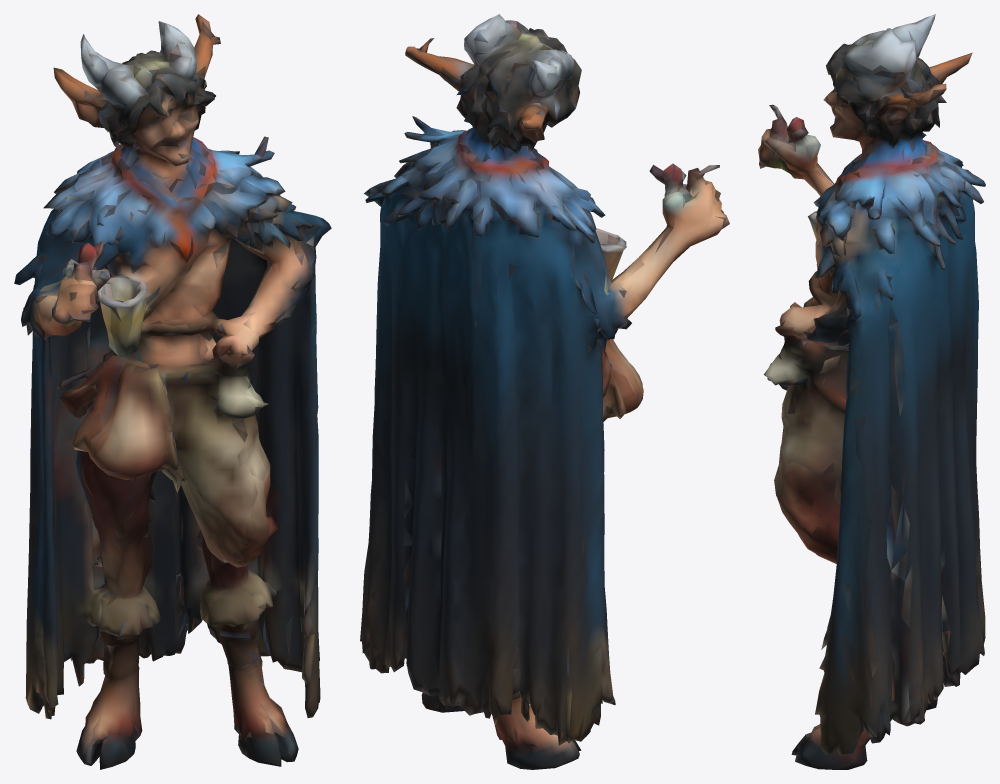
Rendered from Stiixi (2)_final.glb.
3 renders of one model, left to right at view 1: azimuth 30°, elevation 25°; view 2: azimuth 150°, elevation 25°; view 3: azimuth 270°, elevation 25°, orthographic. The views are drawn at different scales.
Parts seen in each view (by area): view 1: Mesh1.0; view 2: Mesh1.0; view 3: Mesh1.0.
Boxes of the visible parts, bbox=[...] form: Mesh1.0: bbox=[14, 14, 331, 769]; Mesh1.0: bbox=[360, 14, 729, 769]; Mesh1.0: bbox=[758, 14, 985, 769].
Bounding box in the file's own units: 0.8319 × 1.8 × 0.5339.
Materials: 1 (1 with a texture image).
